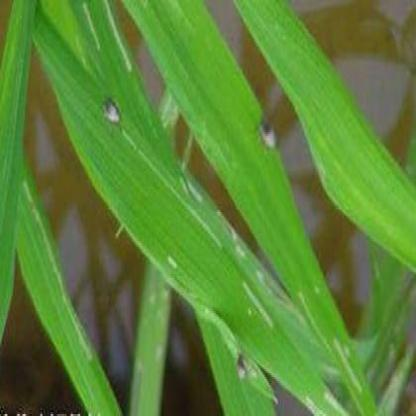rice-bug: (256, 118, 278, 149), (102, 96, 120, 126), (238, 354, 245, 382)
